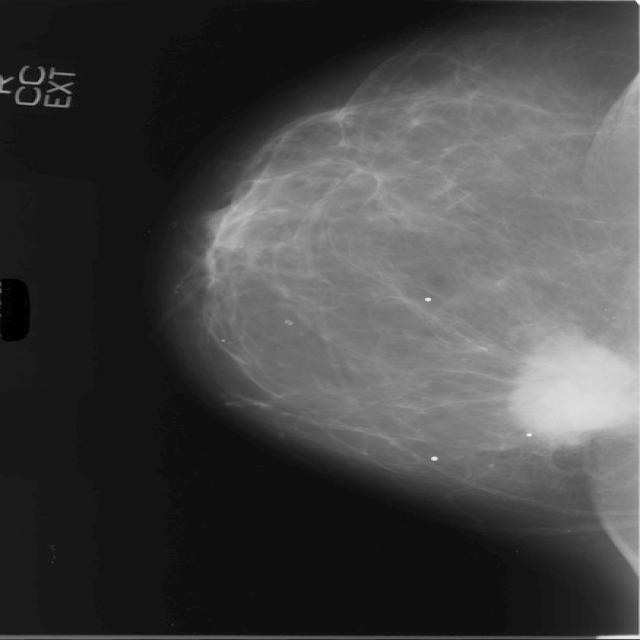tumour: (511, 332, 637, 436)
